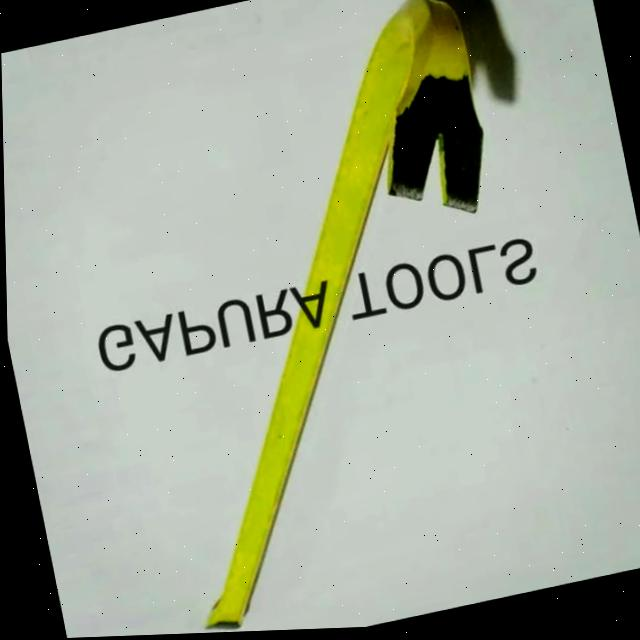crow bar: (221, 0, 485, 631)
